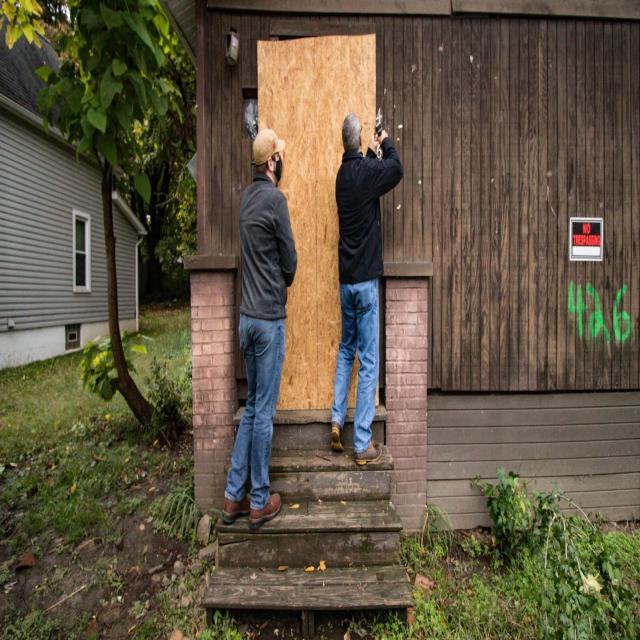House: (192, 0, 634, 638), (0, 0, 147, 365)
